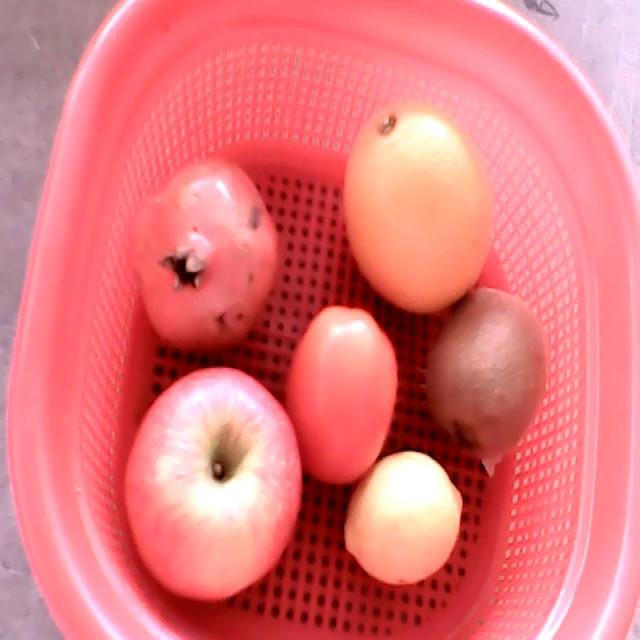apple: (124, 369, 300, 598)
kiwi: (426, 288, 548, 461)
lemon: (344, 452, 463, 585)
orange: (340, 97, 494, 314)
pomegranate: (132, 157, 276, 353)
tomato: (282, 304, 398, 484)
